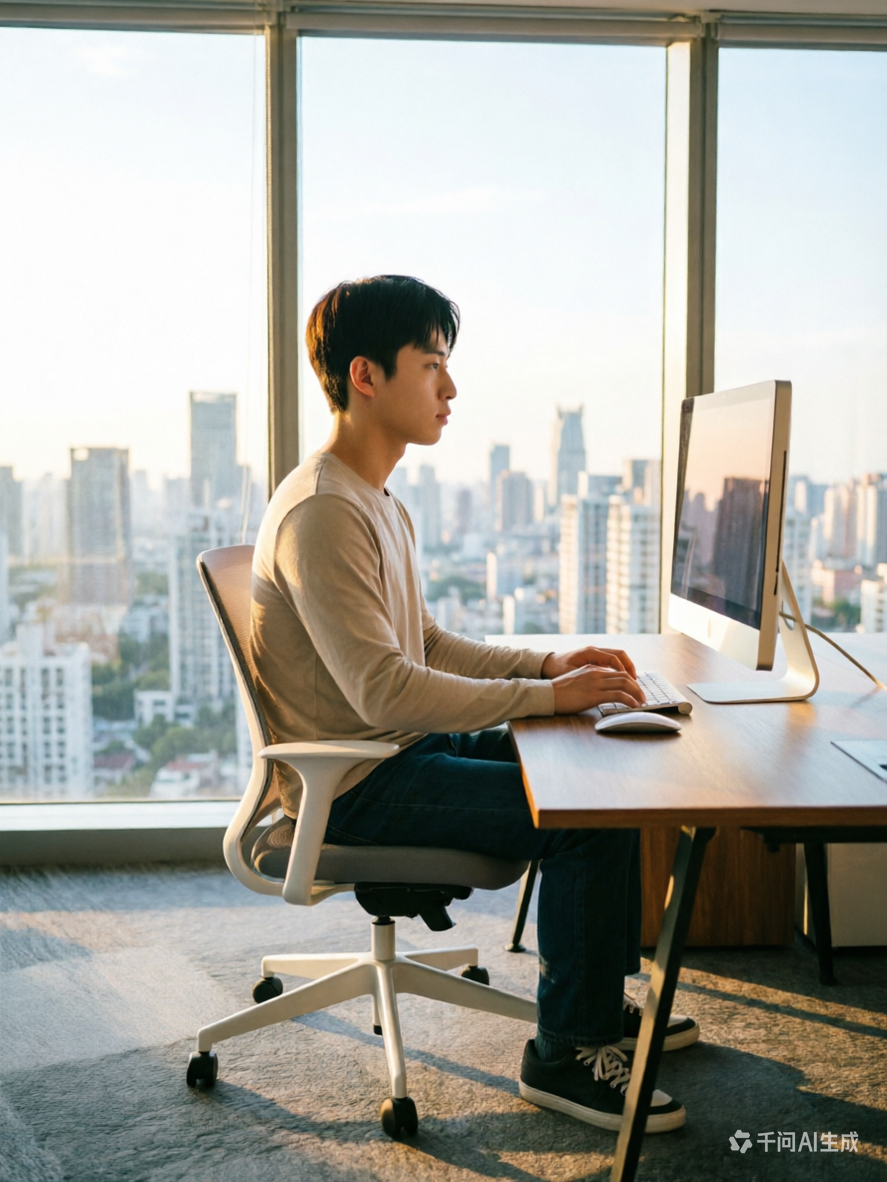sitting_good: (246, 280, 681, 1116)
